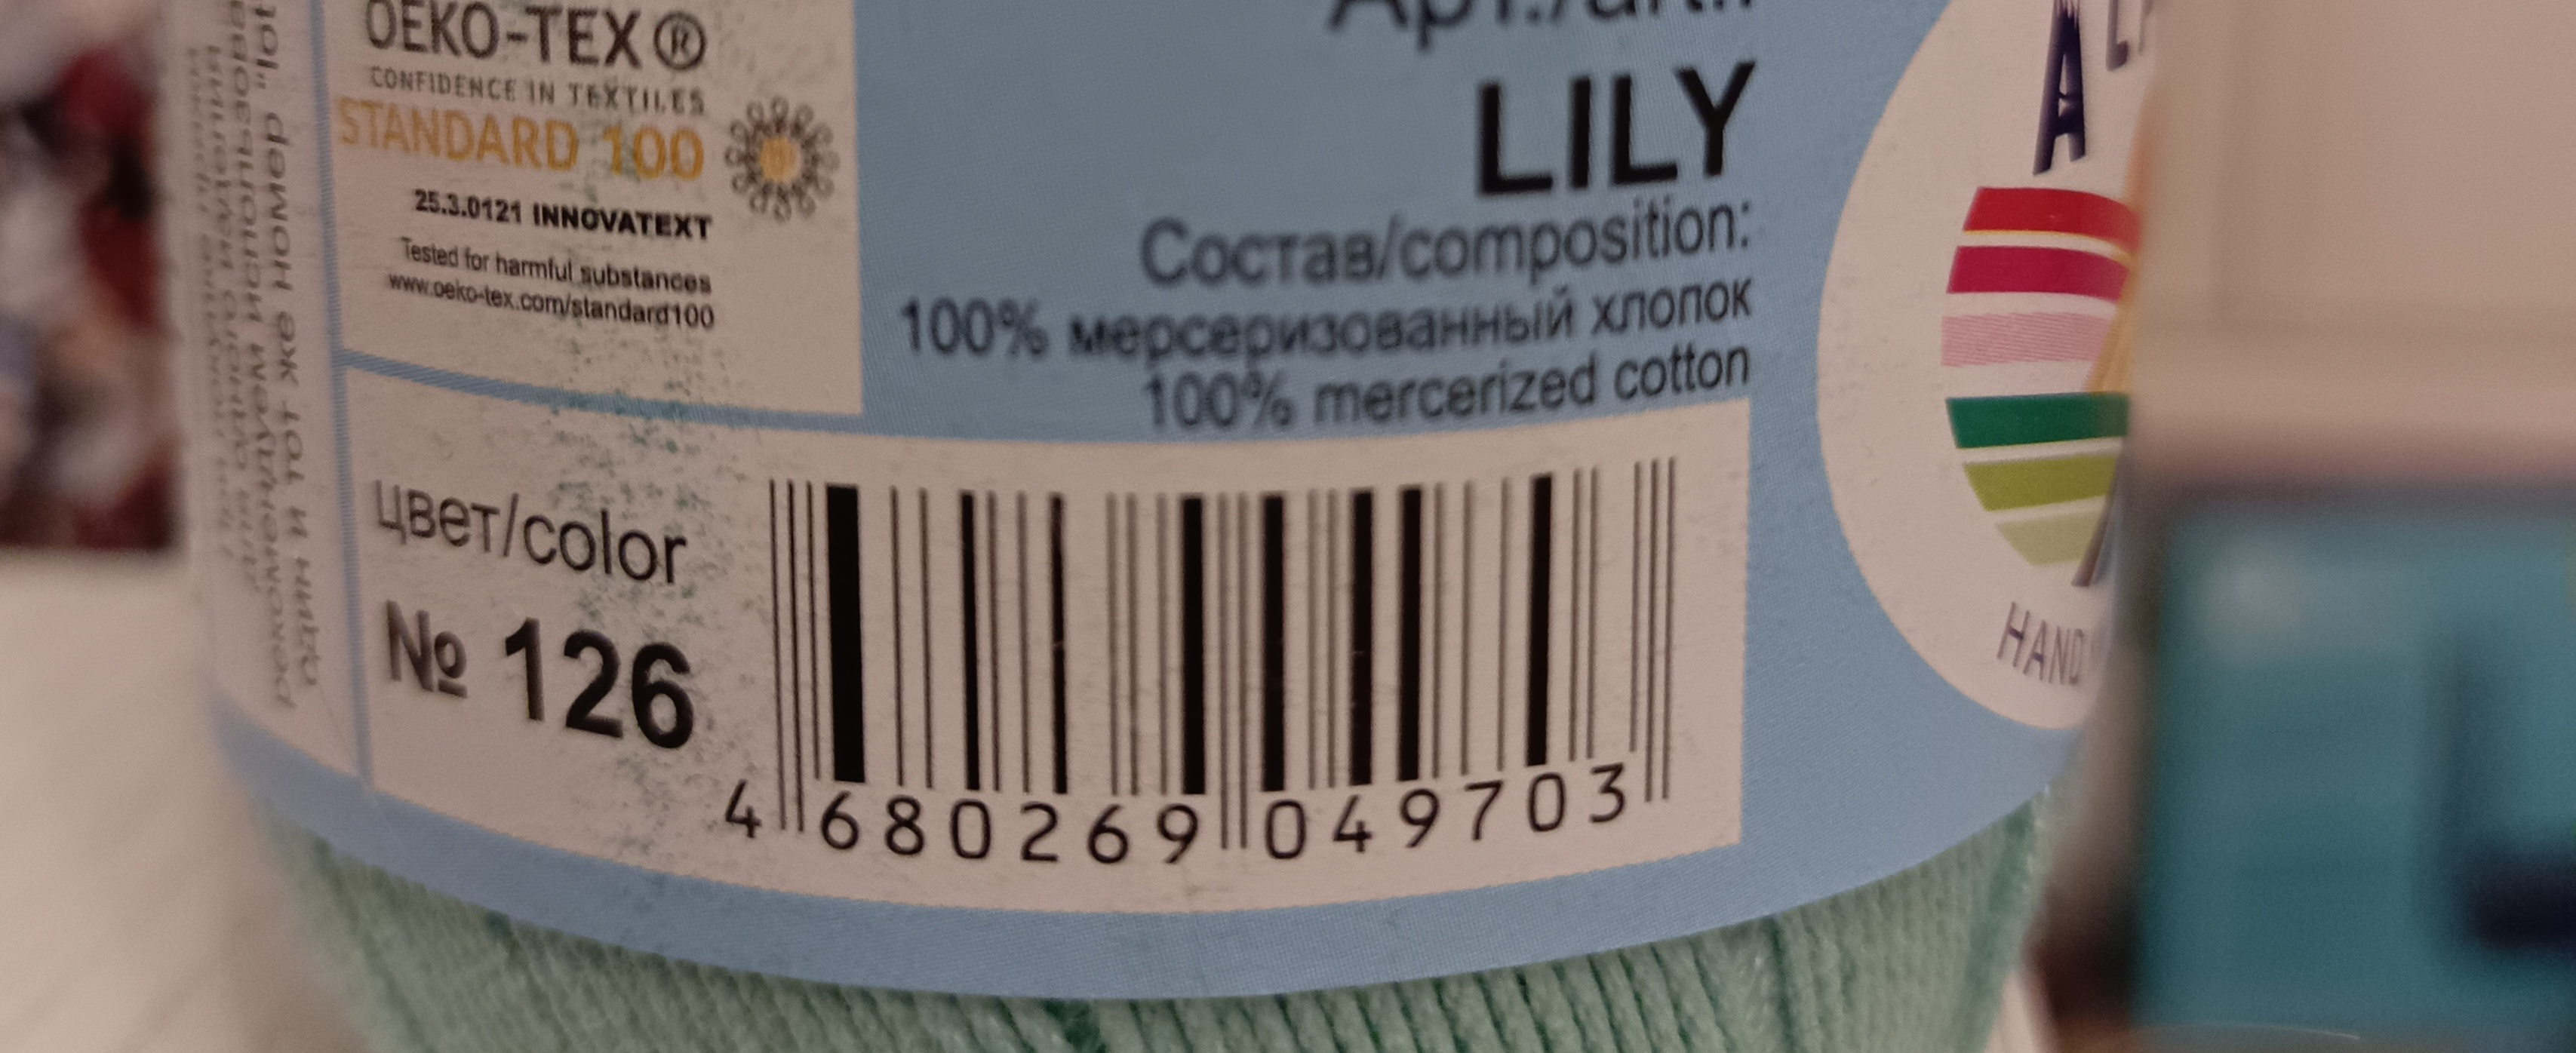1d: (767, 462, 1686, 789)
